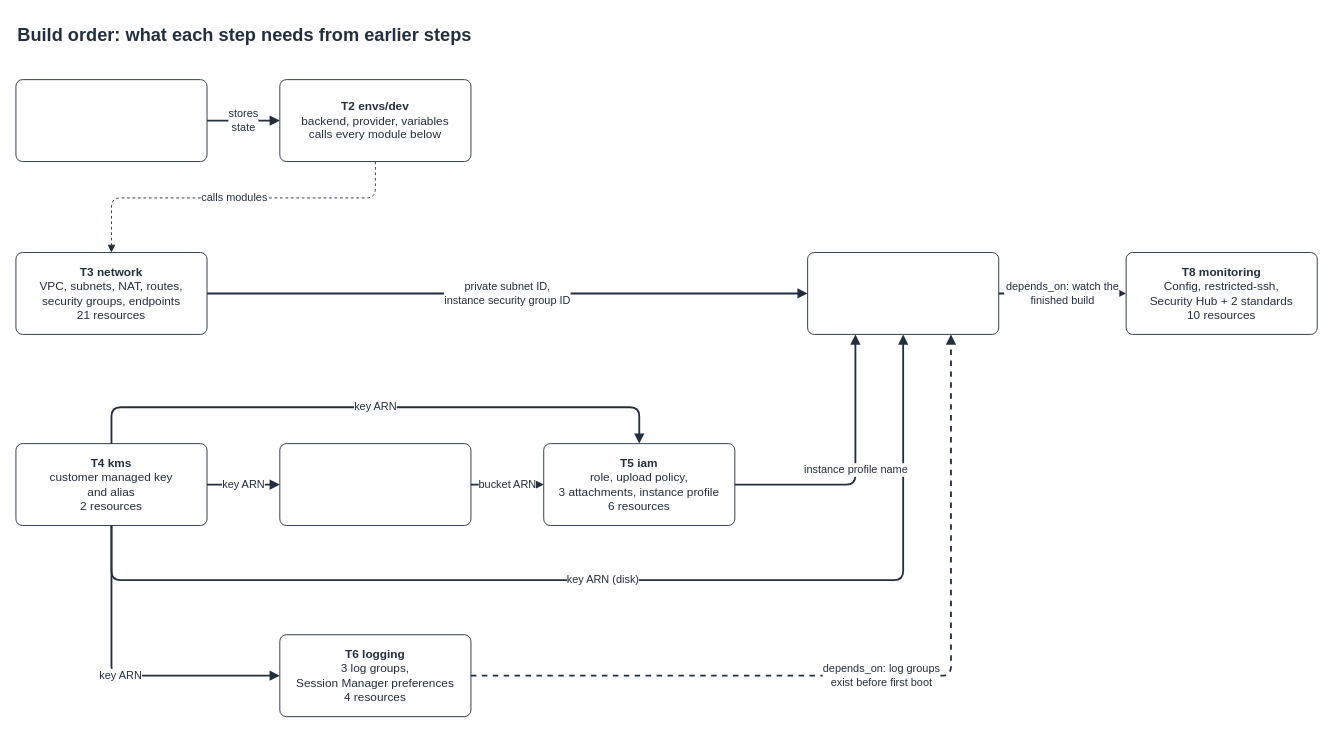
Some shapes in this 1333 by 733 pixel diagram are drawn without their labels. The shapes that lost their labels are listed below. From the top down, each one's centre as x and y in pixels, then its label:
[111,120]: T1 bootstrap S3 bucket for Terraform state (created once, never destroyed)
[903,293]: T7 compute EBS default encryption, the server and its boot setup 3 resources
[375,484]: T4 evidence evidence bucket, settings and bucket policy 6 resources
